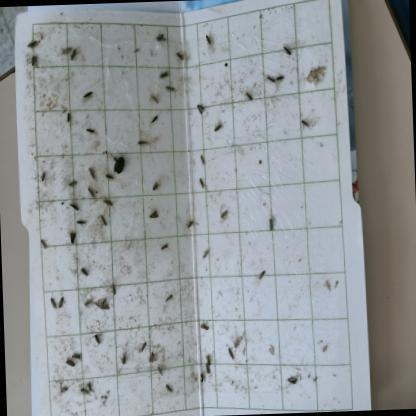prays_oleae: (303, 62, 329, 90), (279, 368, 300, 392), (93, 292, 111, 316), (263, 208, 276, 241), (148, 86, 165, 110), (132, 133, 151, 154), (63, 349, 78, 375), (63, 192, 80, 214), (298, 112, 312, 137), (179, 214, 197, 233), (255, 265, 271, 286), (218, 204, 232, 228), (175, 44, 191, 64), (164, 281, 175, 310), (116, 344, 128, 370), (57, 285, 68, 313), (84, 121, 101, 139), (24, 31, 42, 48), (80, 255, 92, 280), (156, 64, 172, 82), (67, 170, 78, 196), (82, 82, 95, 104), (67, 229, 79, 252), (212, 121, 225, 142), (146, 202, 162, 219), (148, 109, 166, 124), (164, 82, 179, 100), (166, 379, 180, 398), (198, 247, 212, 266), (38, 165, 50, 187), (282, 39, 294, 61), (105, 280, 118, 300), (199, 314, 213, 332), (224, 341, 236, 362), (197, 150, 209, 171), (73, 348, 85, 368), (134, 337, 150, 352), (152, 29, 166, 46), (203, 33, 214, 54), (97, 212, 109, 231), (78, 384, 92, 400), (242, 90, 255, 107), (264, 68, 275, 88), (46, 294, 58, 312), (39, 236, 51, 254), (159, 235, 171, 253), (92, 336, 104, 354), (198, 366, 207, 390), (194, 100, 206, 118), (99, 195, 114, 209), (26, 53, 40, 68), (79, 296, 94, 310), (155, 362, 168, 378), (84, 163, 96, 180), (68, 45, 80, 62), (275, 70, 286, 88), (75, 214, 89, 228), (195, 176, 209, 190), (202, 362, 212, 380), (146, 350, 156, 366), (204, 350, 212, 368), (66, 106, 72, 128), (87, 184, 95, 200), (150, 176, 158, 190)
